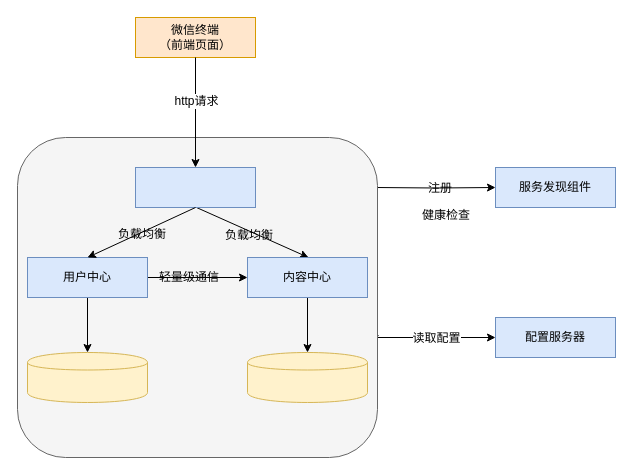
Image size: 633x475. Some labels were removed from this diagram. The centre of each missing label's shape, as x and y in pixels:
"content_center" belongs at point 307,377.
"user_center" belongs at point 87,377.
"服务网关" belongs at point 195,187.
